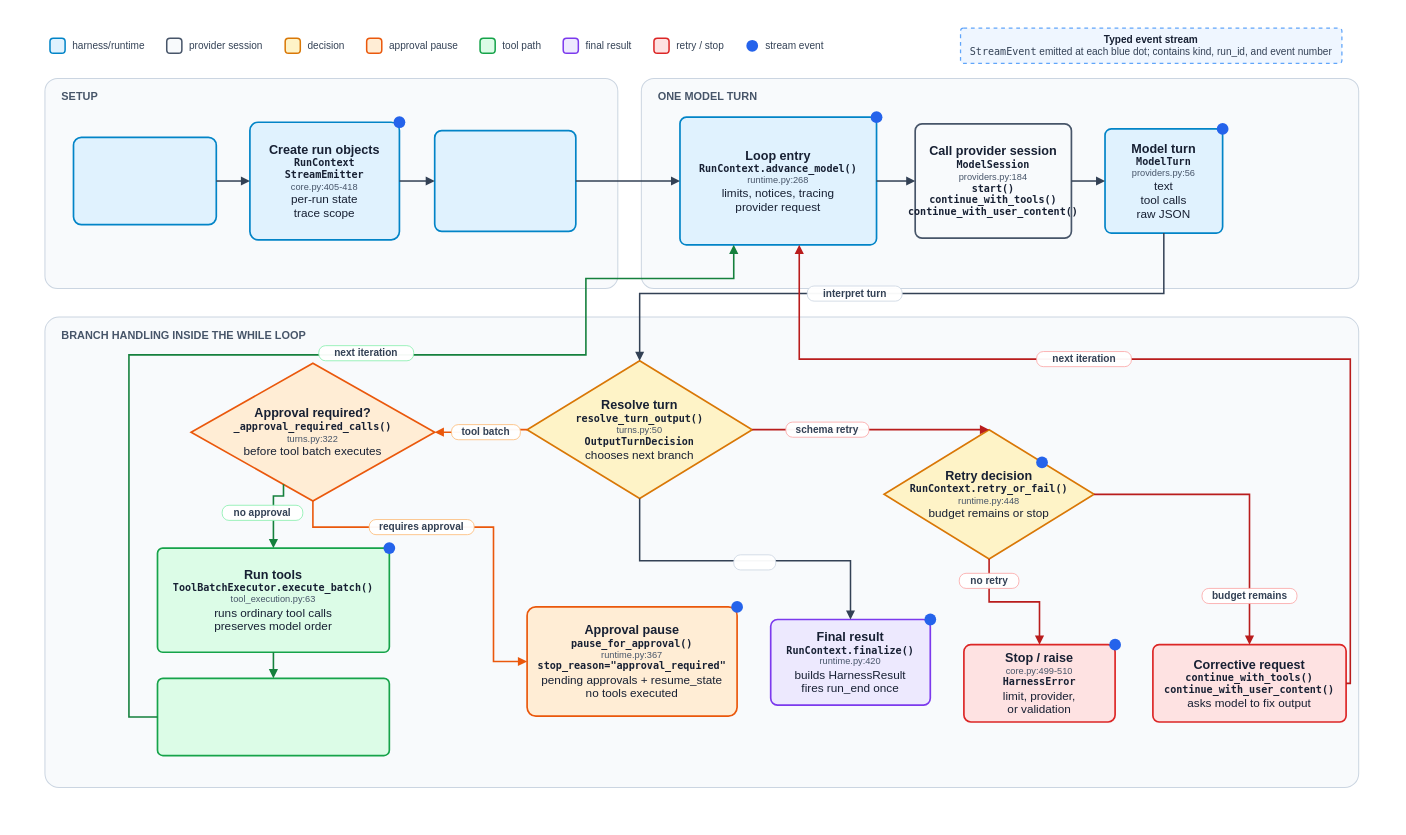
The diagram is 1406 pixels wide and 835 high, and some of its shapes have lost their labels. The centre of each missing label's shape, as x and y in pixels:
Entry point Harness.stream() core.py:305-374 outer stream flow: the point at 144,180
final: the point at 754,562
Open session new_session() resume_session() core.py:448-491 one active session: the point at 504,180
Return tool outputs Build ToolOutput[] providers.py:97 model-visible results: the point at 273,716
